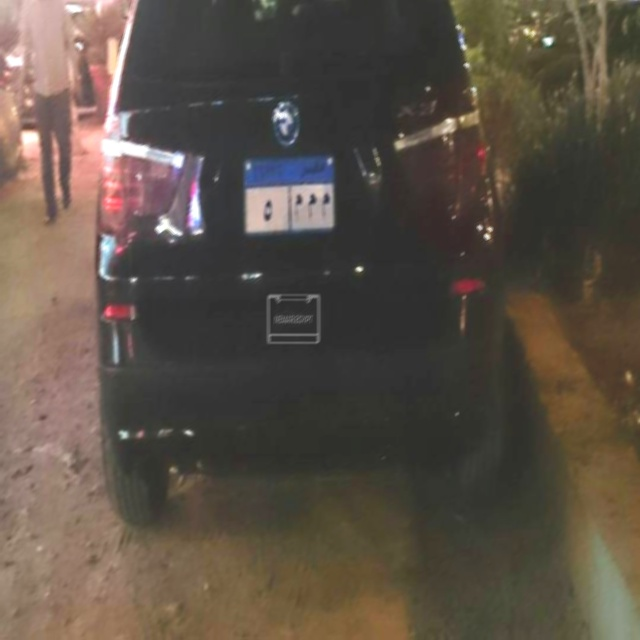License Plate: (240, 148, 337, 240)
